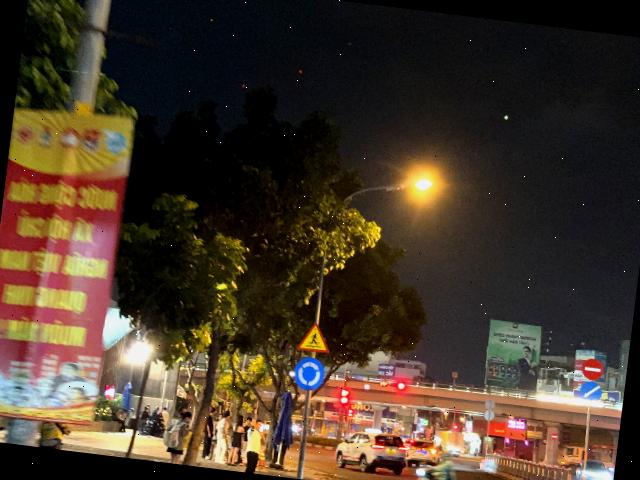cam-di-nguoc-chieu: (580, 357, 604, 382)
duong-nguoi-di-bo-cat-ngang: (296, 320, 332, 354)
huong-phai-di-vong-chuong-ngai-vat: (578, 380, 603, 404)
noi-giao-nhau-chay-theo-vong-xuyen: (292, 356, 326, 392)
